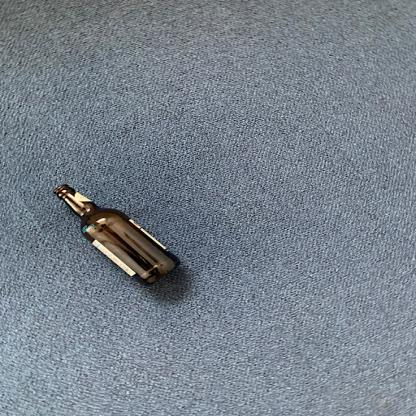trash: (49, 177, 185, 292)
